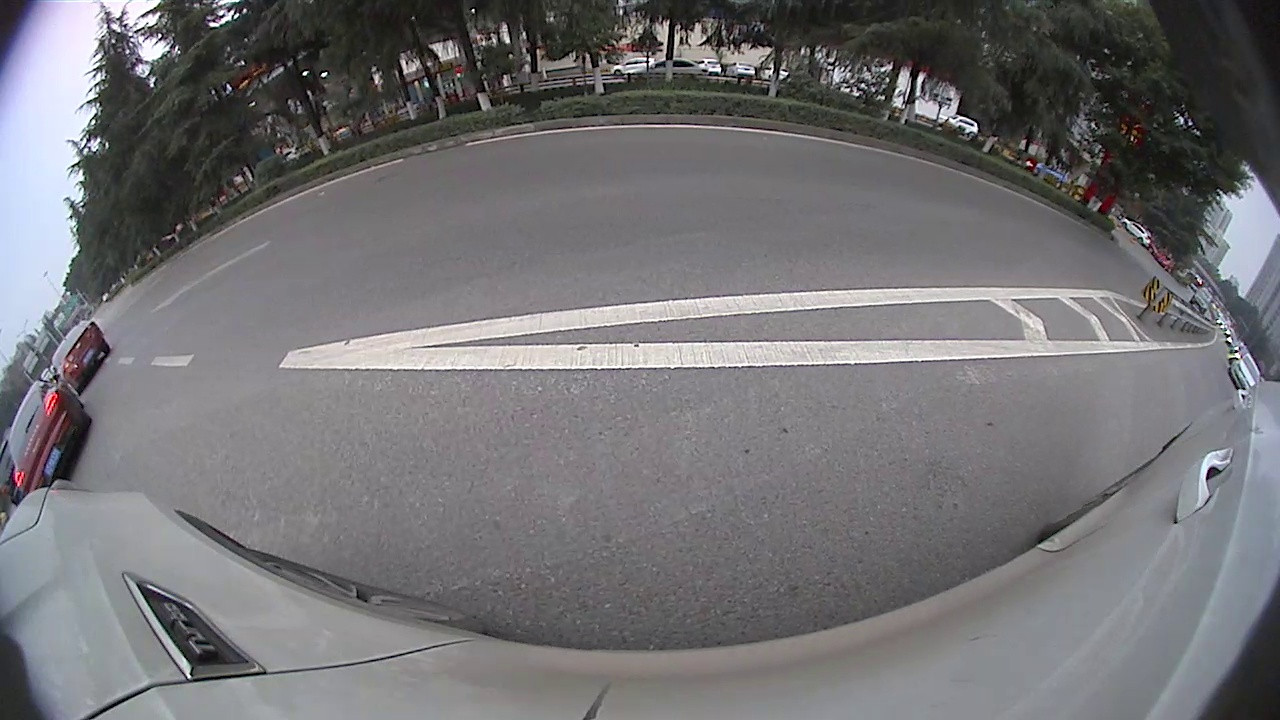car: (9, 382, 91, 498), (54, 322, 108, 397)
